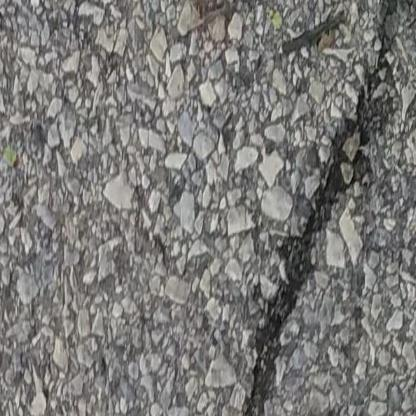Cracks: (239, 0, 416, 416)
